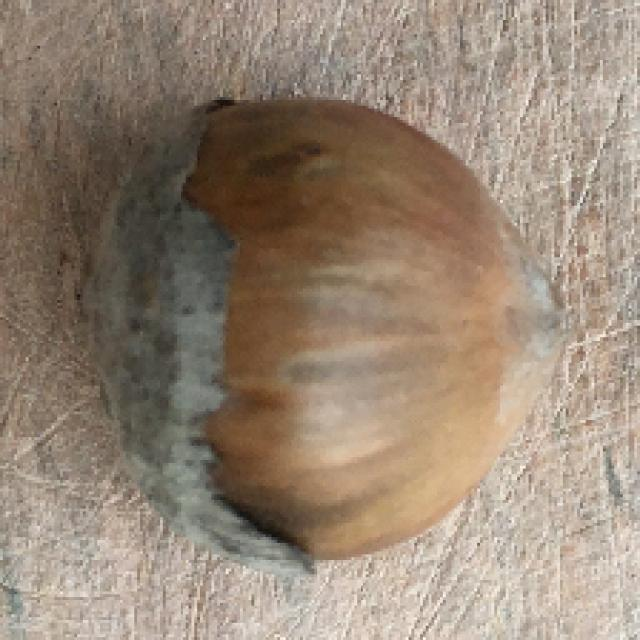damagedHazelnut: (75, 86, 554, 571)
